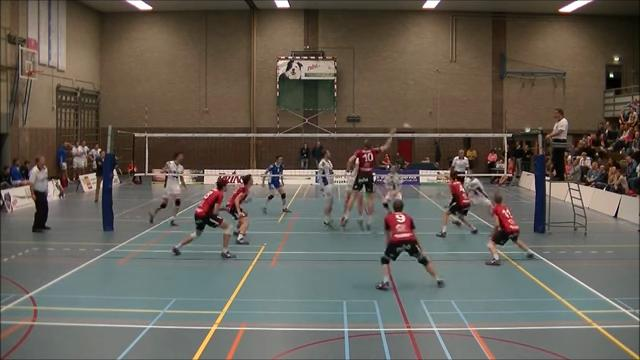Player: (376, 200, 444, 289), (341, 129, 394, 229), (172, 178, 235, 258), (486, 192, 533, 265), (436, 170, 477, 237), (149, 152, 185, 225), (227, 174, 252, 244), (262, 155, 289, 213), (343, 159, 363, 230), (318, 149, 333, 226), (464, 176, 492, 210), (383, 165, 402, 212)
ball: (402, 122, 411, 132)
